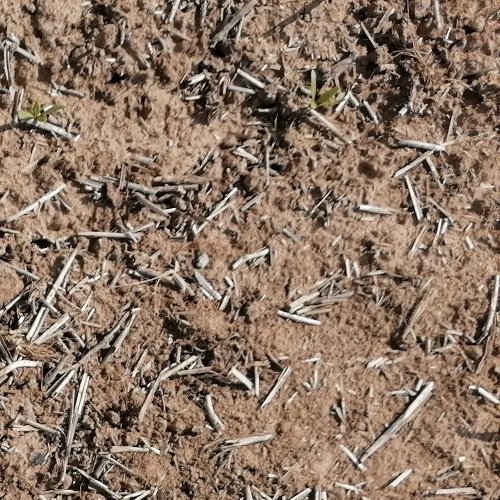beet: (307, 74, 342, 111), (18, 103, 65, 126)
